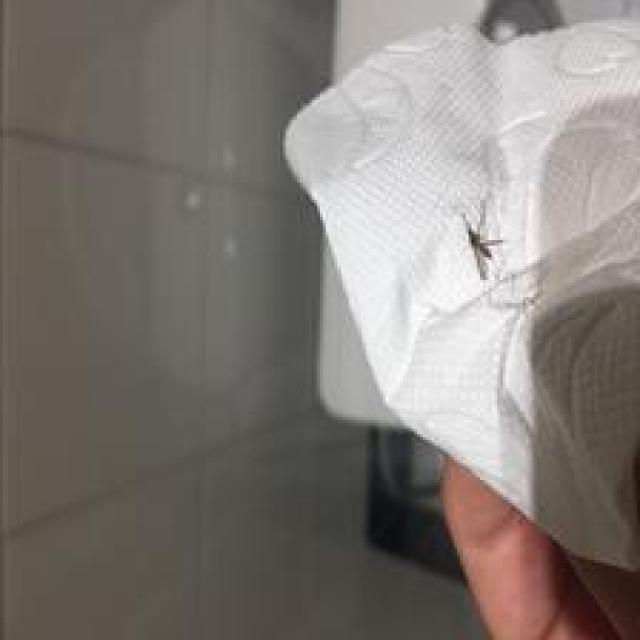Culex: (283, 0, 640, 580)
